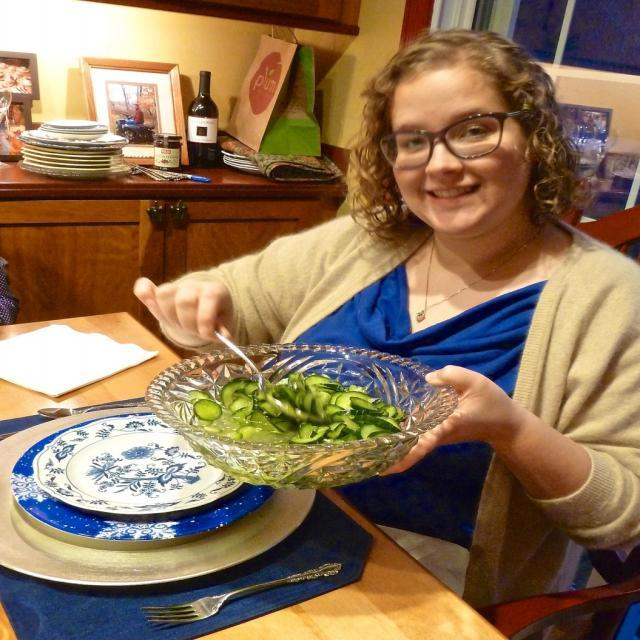ceramic plate: (13, 406, 379, 640)
